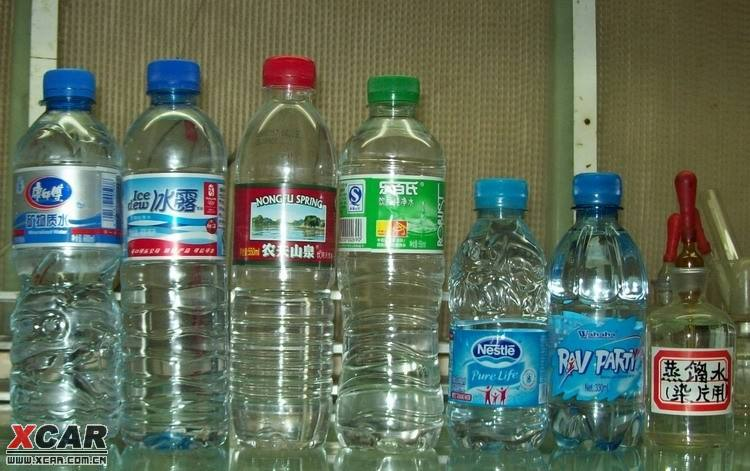amwater: (122, 52, 235, 468), (11, 63, 127, 446)
